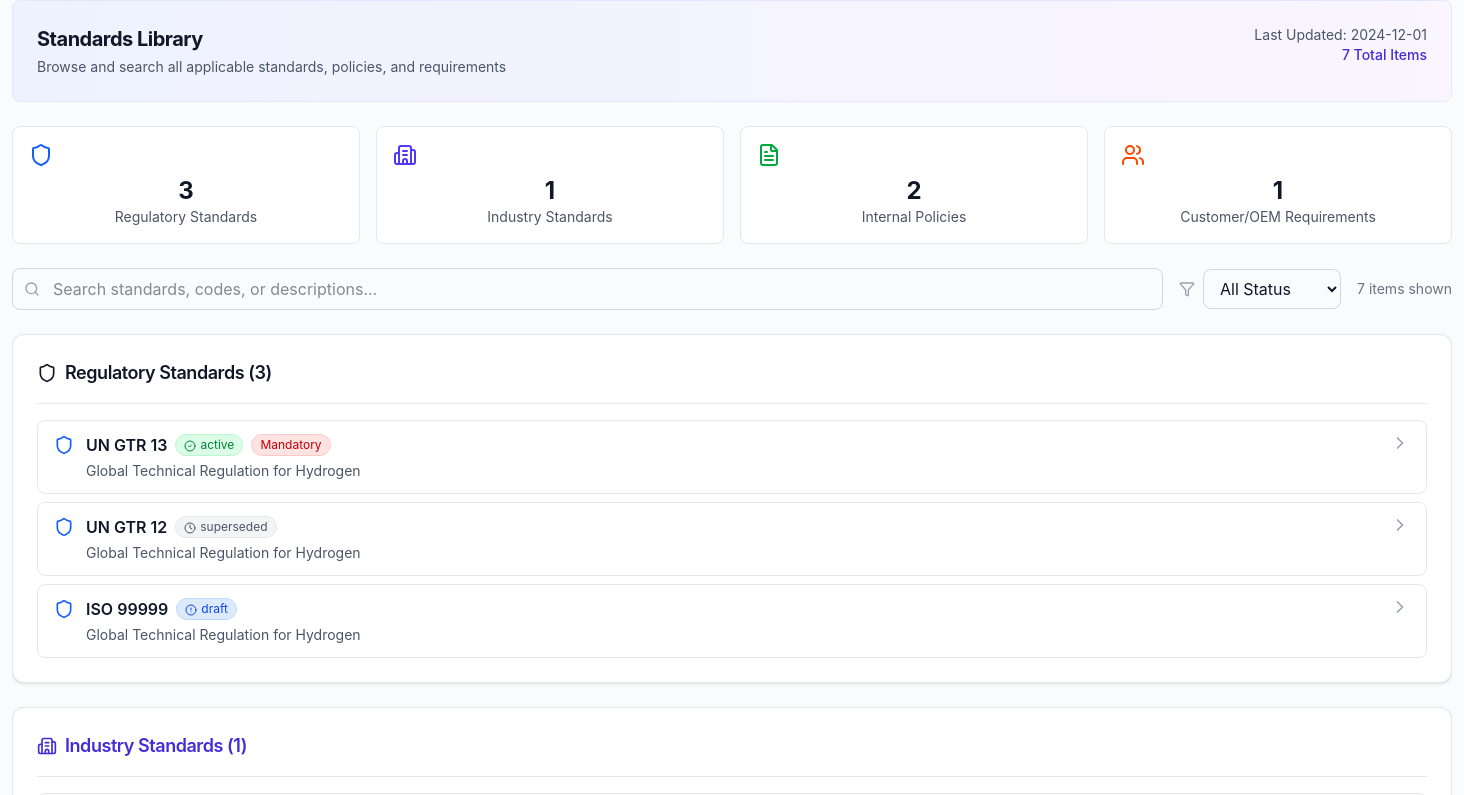
Test: StandardsLibraryPanel › Category Filtering › should filter to industry when clicked
Click the button "1 Industry Standards" at (550, 185), box 376,126 -> 724,244
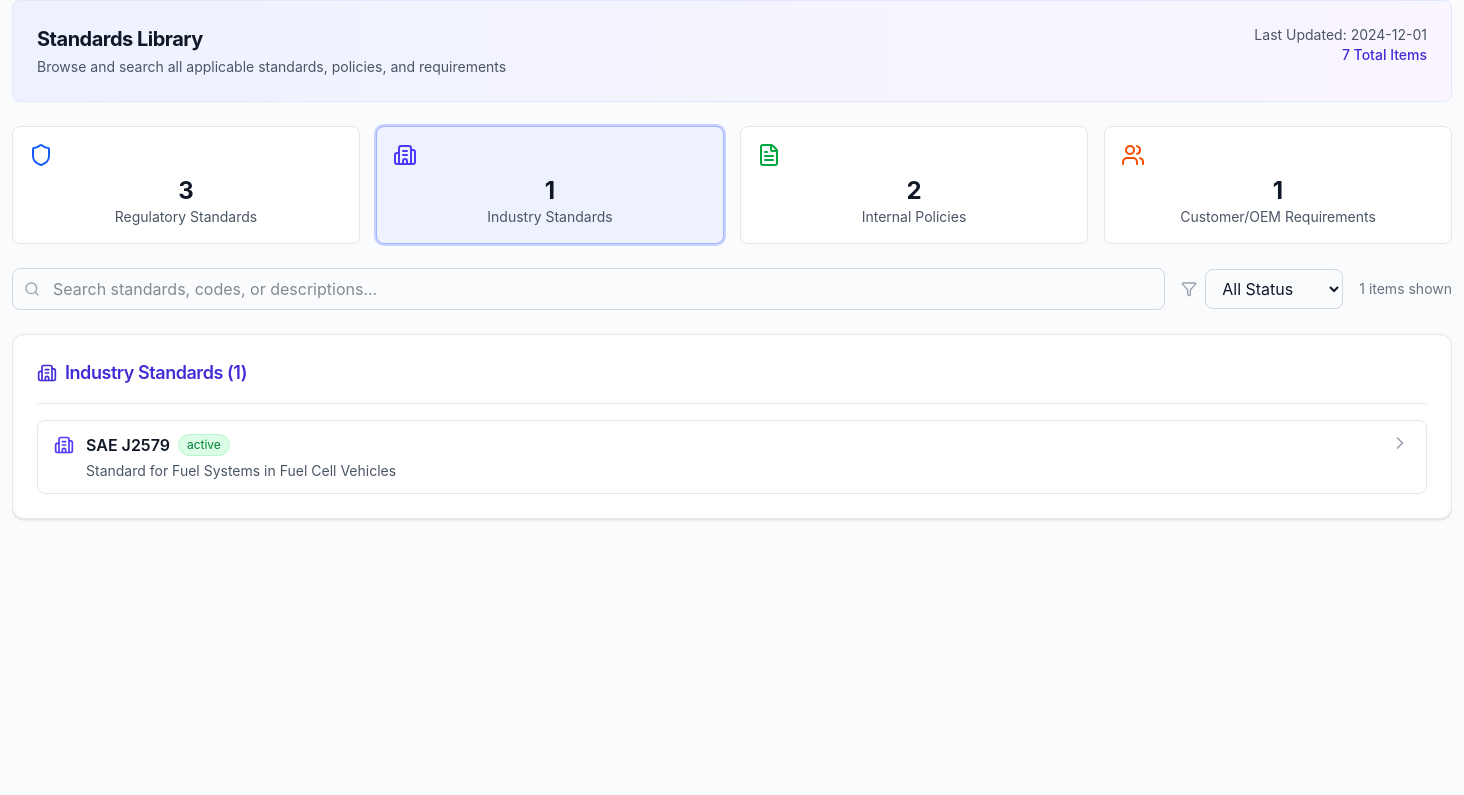
Expected: the text "SAE J2579" is shown, 86,433 -> 170,457
Now the heading "Regulatory Standards (3)" is gone
